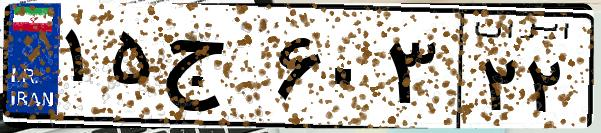0: (330, 28, 385, 110)
1: (57, 26, 110, 100)
2: (475, 38, 525, 113), (525, 38, 570, 115)
3: (385, 28, 445, 110)
5: (110, 28, 158, 98)
6: (270, 28, 330, 110)
ج: (158, 20, 270, 120)
